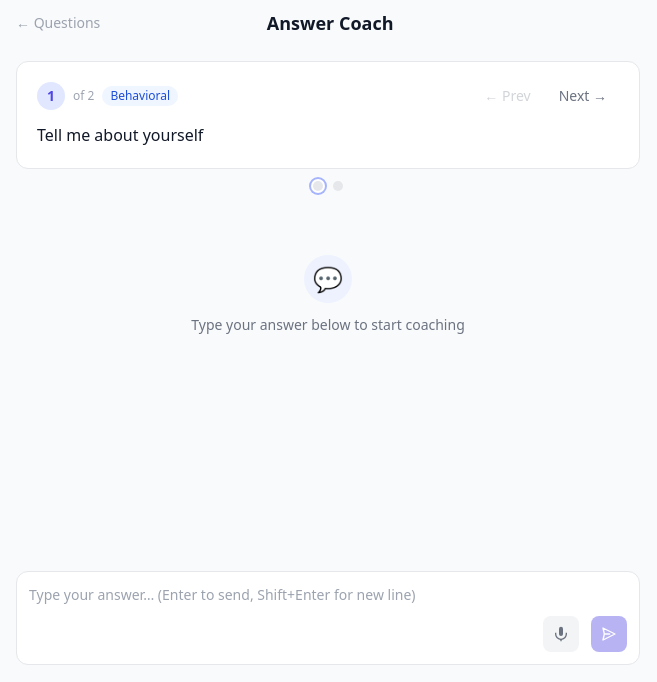
Scenario: AnswerCoach › shows session-complete banner when last question completes
Click the button "Next →": (583, 96) 547,82 -> 619,110
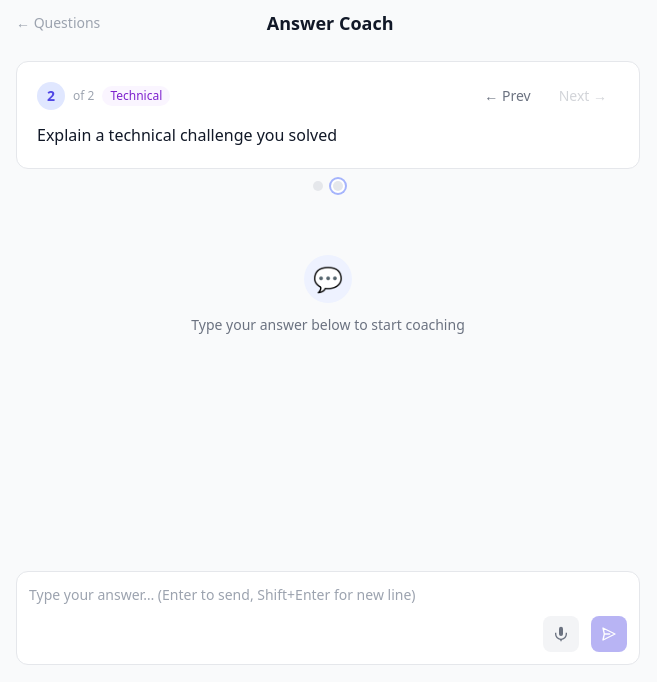
In the text box with placeholder "Type your answer… (Enter to send, Shift+Enter for new line)": (280, 618) 29,584 -> 531,652, type "Done"
Then press Enter
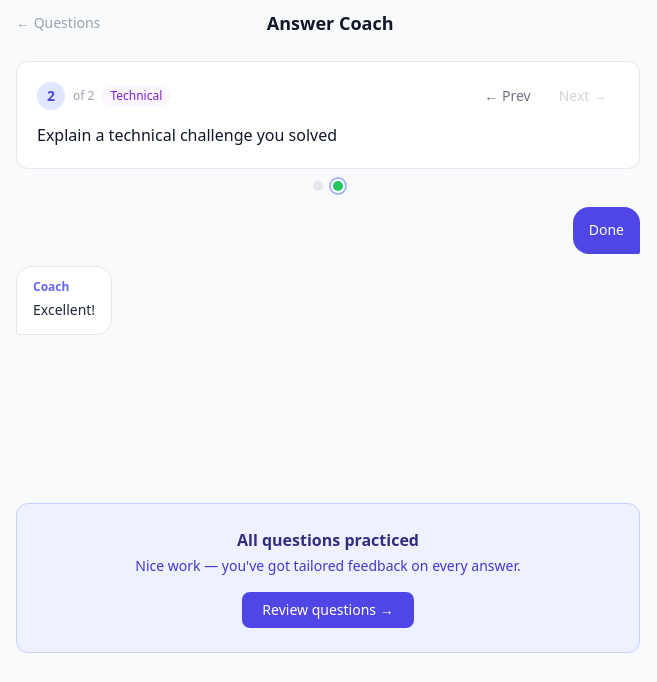
Expected: the text "All questions practiced" is shown, 237,529 -> 419,551
